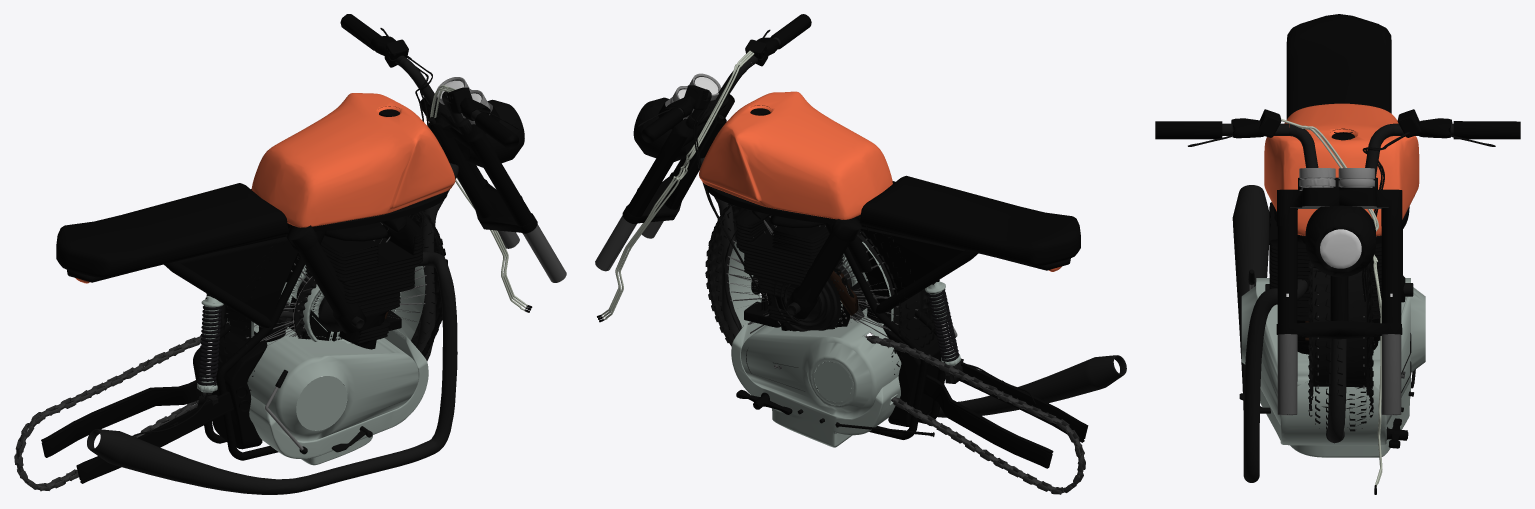
File: revbike.glb
3 views of the same model, side by side, from view 1: azimuth 30°, elevation 25°; view 2: azimuth 150°, elevation 25°; view 3: azimuth 270°, elevation 25° (orthographic). The views are drawn at different scales.
Visible parts, largest first — view 1: chassis, chassis_CG_ef653b, chassis_CG_8d9993, chassis_CG_0f0f0f, frontWheel, chassis_CG_2c2c2c, rearWheel, chassis_CG_0b0a0c, frontWheel_CG_8d9993, rearWheel_CG_8d9993, chassis_CG_b2b9aa; view 2: chassis, chassis_CG_ef653b, chassis_CG_8d9993, frontWheel, chassis_CG_0f0f0f, chassis_CG_2c2c2c, rearWheel, chassis_CG_b2b9aa, chassis_CG_0b0a0c, frontWheel_CG_8d9993, rearWheel_CG_8d9993, frontWheel_CG_4d4d4d (+1 smaller); view 3: chassis, chassis_CG_8d9993, chassis_CG_ef653b, chassis_CG_0f0f0f, rearWheel, frontWheel, chassis_CG_7c7c7c, chassis_CG_cccccc, chassis_CG_b2b9aa.
Boxes of the visible parts, x1=… form: chassis: x1=41, y1=14, x2=566, y2=483; chassis_CG_ef653b: x1=75, y1=93, x2=455, y2=283; chassis_CG_8d9993: x1=197, y1=296, x2=428, y2=465; chassis_CG_0f0f0f: x1=87, y1=55, x2=480, y2=494; frontWheel: x1=205, y1=189, x2=447, y2=390; chassis_CG_2c2c2c: x1=14, y1=335, x2=202, y2=491; rearWheel: x1=206, y1=210, x2=447, y2=361; chassis_CG_0b0a0c: x1=198, y1=305, x2=222, y2=386; frontWheel_CG_8d9993: x1=227, y1=265, x2=425, y2=393; rearWheel_CG_8d9993: x1=229, y1=266, x2=424, y2=385; chassis_CG_b2b9aa: x1=430, y1=85, x2=527, y2=310; chassis: x1=595, y1=14, x2=1088, y2=468; chassis_CG_ef653b: x1=699, y1=91, x2=1061, y2=271; chassis_CG_8d9993: x1=731, y1=281, x2=960, y2=447; frontWheel: x1=705, y1=181, x2=933, y2=374; chassis_CG_0f0f0f: x1=678, y1=37, x2=1126, y2=417; chassis_CG_2c2c2c: x1=865, y1=336, x2=1085, y2=494; rearWheel: x1=706, y1=203, x2=934, y2=388; chassis_CG_b2b9aa: x1=601, y1=50, x2=754, y2=319; chassis_CG_0b0a0c: x1=927, y1=289, x2=959, y2=361; frontWheel_CG_8d9993: x1=728, y1=240, x2=893, y2=376; rearWheel_CG_8d9993: x1=731, y1=248, x2=814, y2=379; frontWheel_CG_4d4d4d: x1=726, y1=220, x2=917, y2=362; chassis: x1=1155, y1=14, x2=1520, y2=494; chassis_CG_8d9993: x1=1241, y1=278, x2=1425, y2=457; chassis_CG_ef653b: x1=1264, y1=103, x2=1419, y2=236; chassis_CG_0f0f0f: x1=1222, y1=123, x2=1453, y2=482; rearWheel: x1=1305, y1=259, x2=1373, y2=431; frontWheel: x1=1265, y1=230, x2=1413, y2=427; chassis_CG_7c7c7c: x1=1299, y1=168, x2=1374, y2=190; chassis_CG_cccccc: x1=1286, y1=229, x2=1392, y2=296; chassis_CG_b2b9aa: x1=1281, y1=118, x2=1382, y2=486.
Size of the model in its own units: 1.9 by 1.26 by 1.05.
